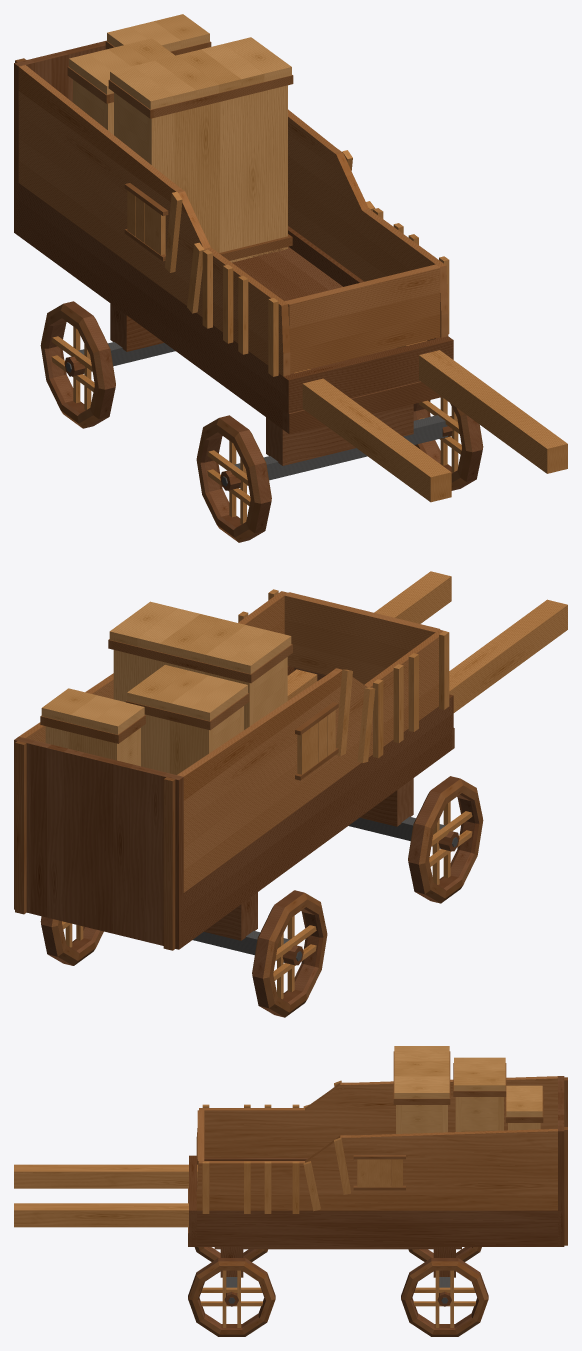
File: Wooden Cart.fbx
The picture shows the model from 3 angles, top to bottom: view 1: azimuth 30°, elevation 25°; view 2: azimuth 150°, elevation 25°; view 3: azimuth 270°, elevation 25°; orthographic projection. The views are drawn at different scales.
Parts seen in each view (by area): view 1: Cart Body, Large Crate, Rear Left Wheel, Front Left Wheel, Medium Crate, Front Right Wheel, Small Crate; view 2: Cart Body, Large Crate, Medium Crate, Front Left Wheel, Rear Left Wheel, Small Crate, Rear Right Wheel; view 3: Cart Body, Large Crate, Rear Right Wheel, Front Right Wheel, Medium Crate, Small Crate, Rear Left Wheel, Front Left Wheel.
Part boxes in pixels (left/top/right/bottom): Cart Body: left=14, top=41, right=567, bottom=502; Large Crate: left=108, top=37, right=293, bottom=262; Rear Left Wheel: left=40, top=301, right=115, bottom=428; Front Left Wheel: left=196, top=415, right=271, bottom=542; Medium Crate: left=67, top=38, right=174, bottom=134; Front Right Wheel: left=413, top=397, right=483, bottom=490; Small Crate: left=105, top=14, right=211, bottom=55; Cart Body: left=14, top=571, right=567, bottom=962; Large Crate: left=108, top=601, right=292, bottom=729; Medium Crate: left=125, top=665, right=249, bottom=774; Front Left Wheel: left=408, top=776, right=483, bottom=903; Rear Left Wheel: left=252, top=890, right=327, bottom=1017; Small Crate: left=40, top=688, right=145, bottom=766; Rear Right Wheel: left=40, top=916, right=103, bottom=965; Cart Body: left=14, top=1076, right=567, bottom=1287; Large Crate: left=393, top=1046, right=450, bottom=1133; Rear Right Wheel: left=401, top=1258, right=488, bottom=1336; Front Right Wheel: left=188, top=1258, right=275, bottom=1336; Medium Crate: left=453, top=1057, right=506, bottom=1131; Small Crate: left=505, top=1085, right=543, bottom=1130; Rear Left Wheel: left=408, top=1247, right=481, bottom=1261; Front Left Wheel: left=194, top=1247, right=267, bottom=1261.
Size of the model in its own units: 1.5 by 2.09 by 4.55.
1 material, 1 textured.
